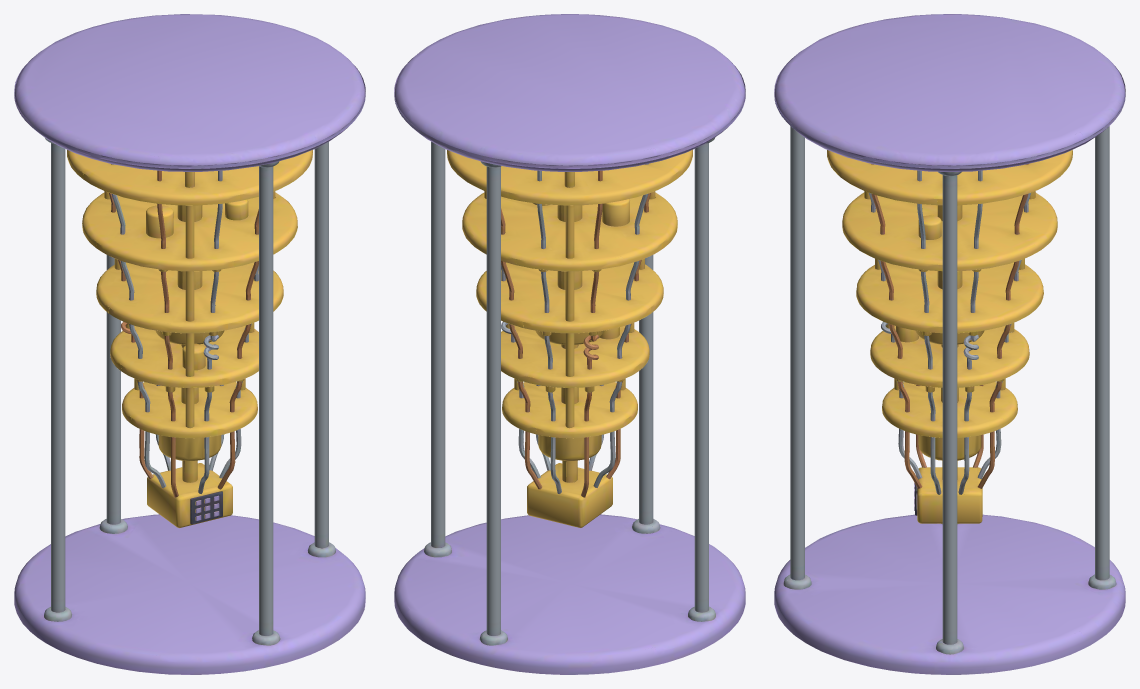
Rendered from quantum-computer.glb.
3 views of the same model, side by side, from view 1: azimuth 30°, elevation 25°; view 2: azimuth 150°, elevation 25°; view 3: azimuth 270°, elevation 25° (orthographic).
Parts seen in each view (by area): view 1: quantum-computer_body; view 2: quantum-computer_body; view 3: quantum-computer_body.
Part boxes in pixels (left/top/right/bottom): quantum-computer_body: left=14, top=14, right=365, bottom=674; quantum-computer_body: left=394, top=14, right=745, bottom=674; quantum-computer_body: left=774, top=14, right=1125, bottom=674.
Bounding box in the file's own units: 0.3 × 0.486 × 0.3.
Materials: 1 (1 with a texture image).
